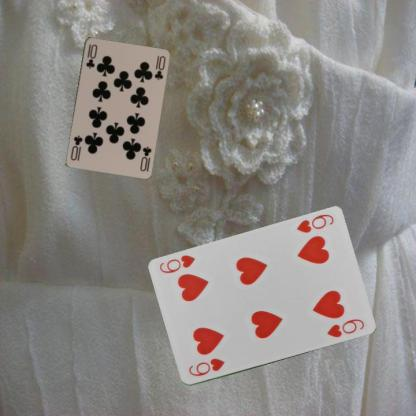10c: (83, 41, 98, 69), (138, 143, 152, 173)
6h: (185, 356, 226, 378), (294, 212, 335, 234)
